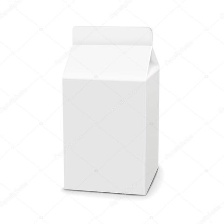carton: (54, 18, 173, 199)
